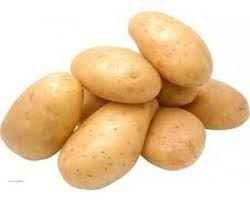potato: (59, 95, 161, 188), (3, 65, 79, 159), (126, 7, 214, 84), (66, 41, 164, 103), (147, 99, 206, 170)
